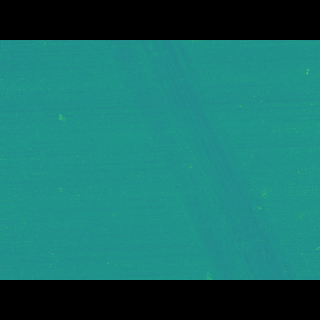Loch: (100, 69, 301, 248)
